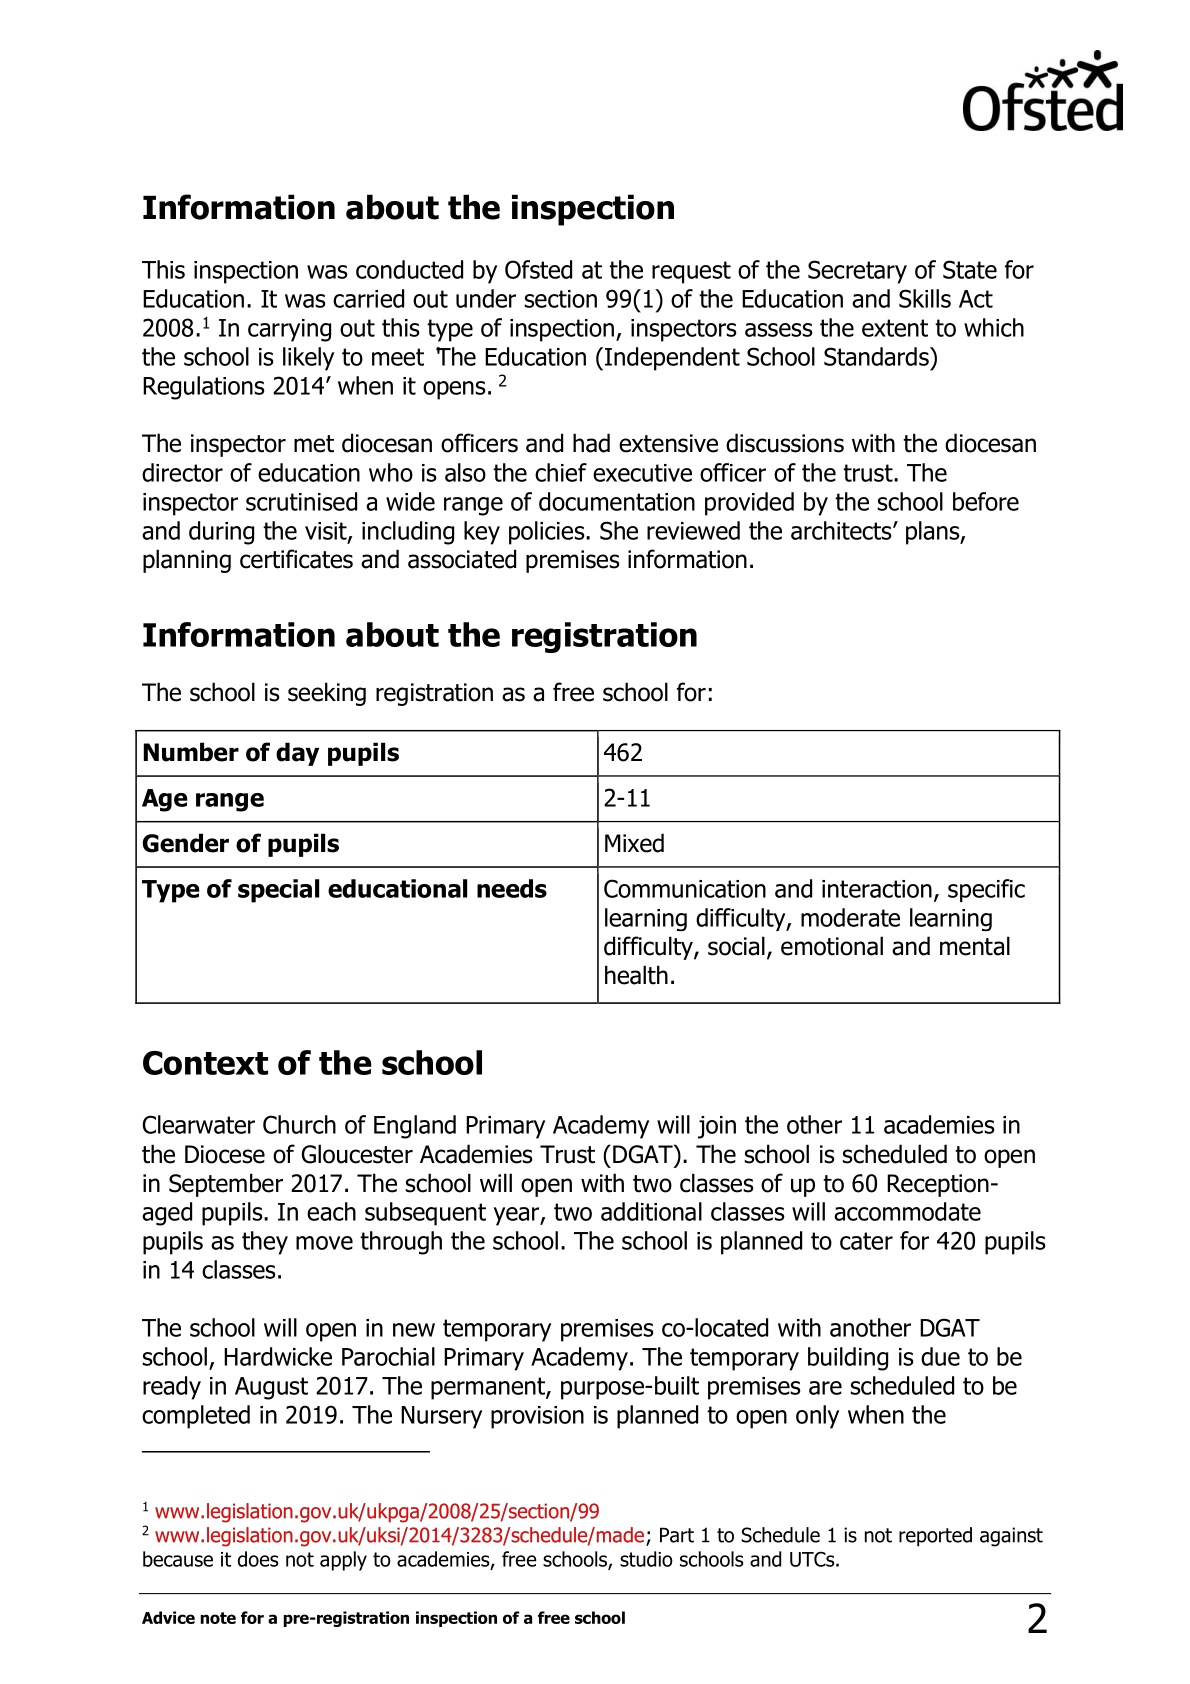full_lined: (137, 726, 1068, 1006)
